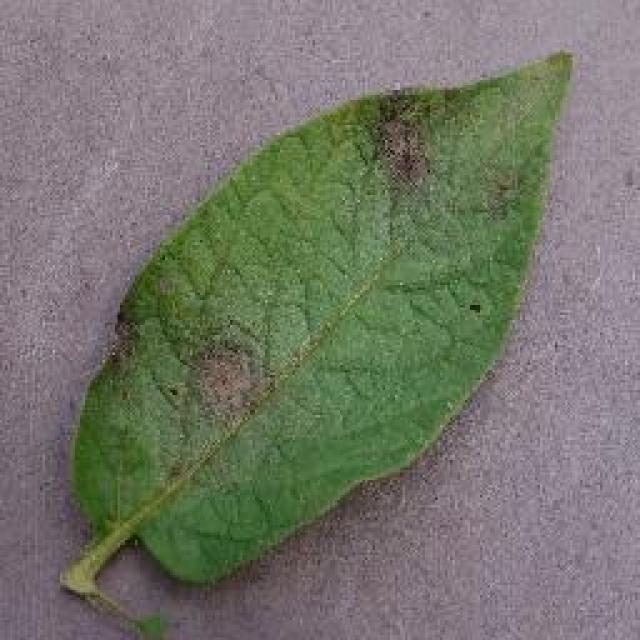late_blight: (55, 42, 580, 628)
